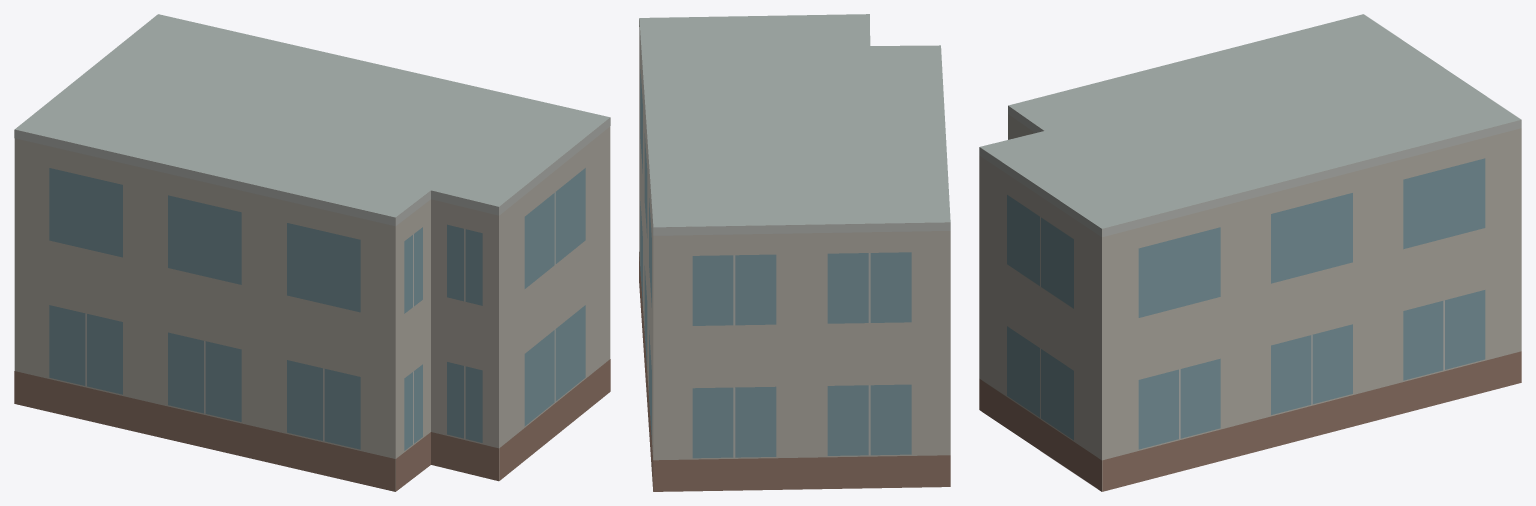
Rendered from survey-upis-32675197.glb.
3 views of the same model, side by side, from view 1: azimuth 30°, elevation 25°; view 2: azimuth 150°, elevation 25°; view 3: azimuth 270°, elevation 25° (orthographic). The views are drawn at different scales.
Parts seen in each view (by area): view 1: survey-upis-32675197.tmp; view 2: survey-upis-32675197.tmp; view 3: survey-upis-32675197.tmp.
Part boxes in pixels (box(x1,y1,x2,y2)): survey-upis-32675197.tmp: box(14, 14, 610, 491); survey-upis-32675197.tmp: box(639, 14, 950, 491); survey-upis-32675197.tmp: box(979, 14, 1521, 491).
Bounding box in the file's own units: 13.33 × 7.6 × 14.21.
